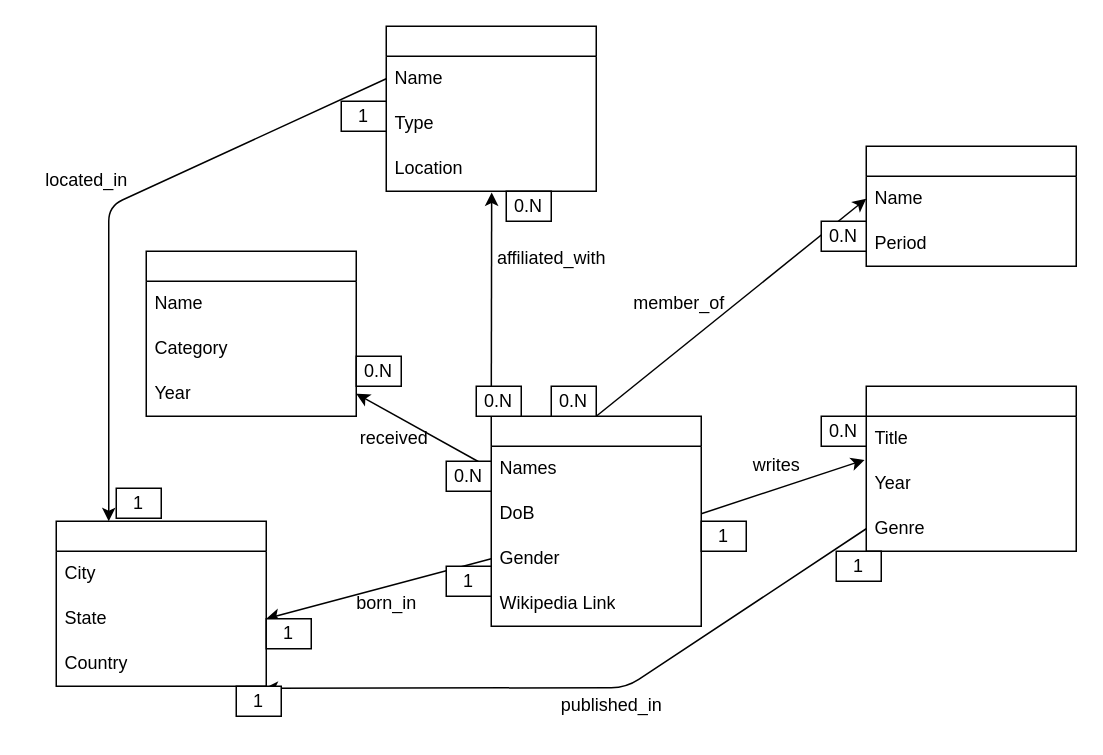
This 1103x755 diagram has some shape labels left out. Here are the shapes that lost their labels. From the top down, the box of each, then its label:
(385, 25, 596, 191): Organisation
(865, 145, 1076, 266): Movement
(145, 250, 356, 416): Award
(865, 385, 1076, 551): Work
(490, 415, 701, 626): Writer
(55, 520, 266, 686): Place
